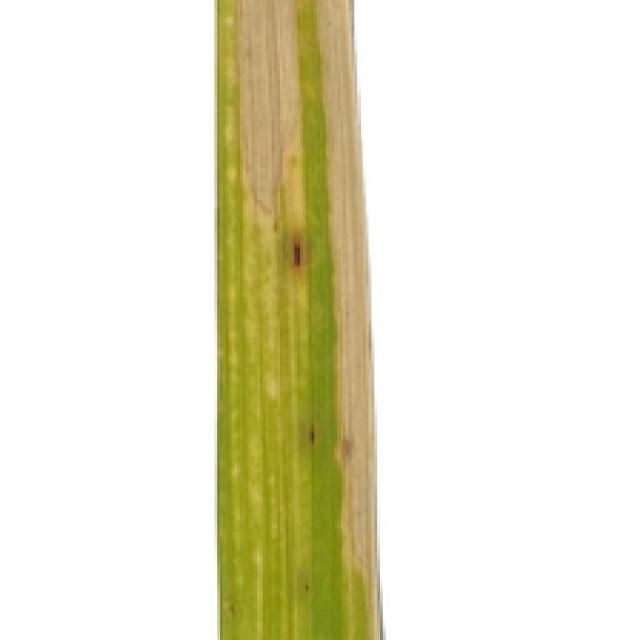Rice___Bacterial_Leaf_Blight: (212, 0, 385, 637)
